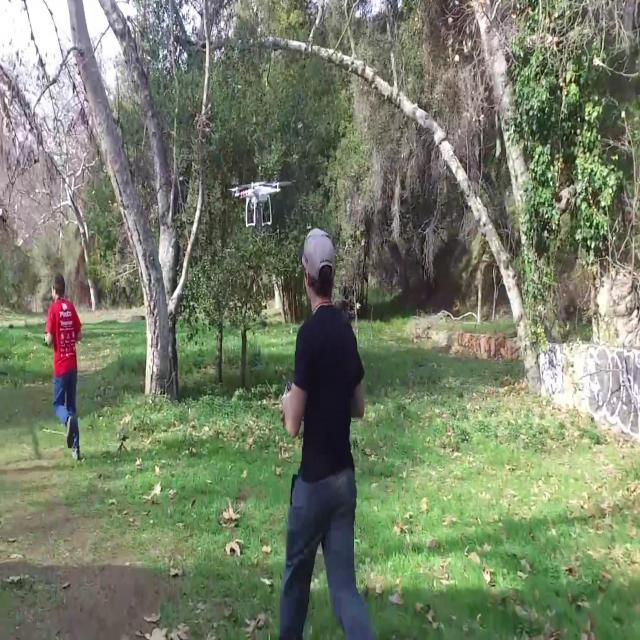drone: (226, 174, 292, 229)
